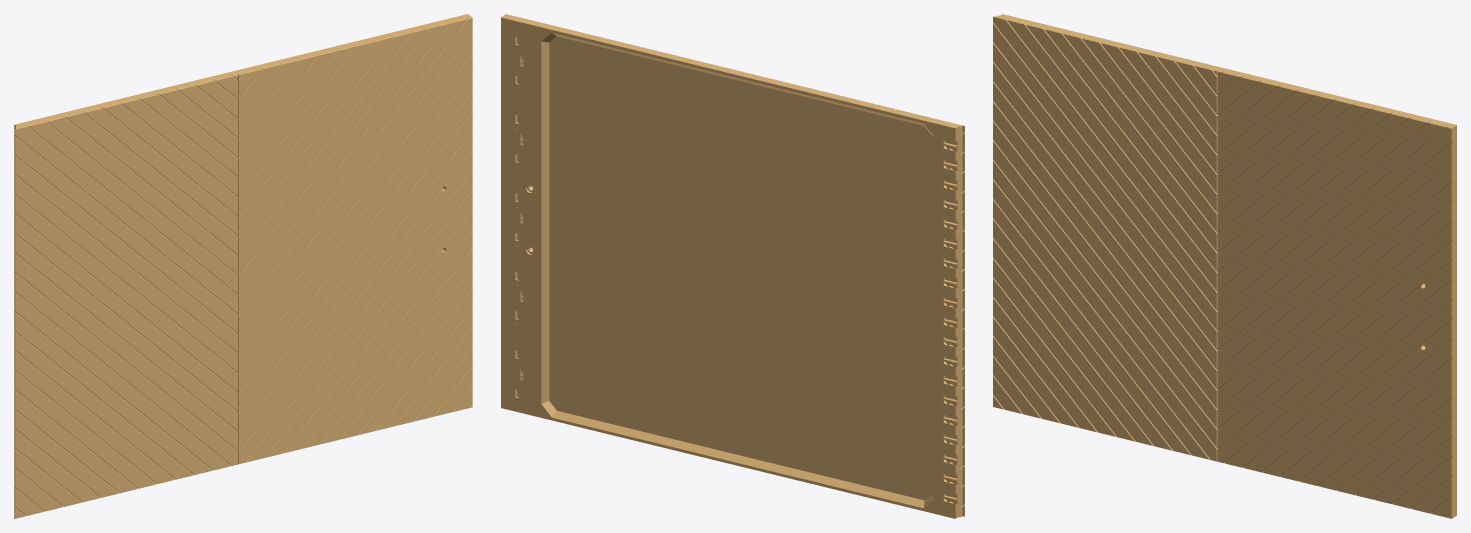
File: Door_Chevron_4W-5H.lib.glb
3 renders of one model, left to right at view 1: azimuth 30°, elevation 25°; view 2: azimuth 150°, elevation 25°; view 3: azimuth 330°, elevation 25°, orthographic.
Parts seen in each view (by area): view 1: Door_Chevron_4W-5H; view 2: Door_Chevron_4W-5H; view 3: Door_Chevron_4W-5H.
Boxes of the visible parts, x1,y1,x2,y2 form: Door_Chevron_4W-5H: [14, 14, 472, 518]; Door_Chevron_4W-5H: [501, 14, 964, 518]; Door_Chevron_4W-5H: [993, 14, 1456, 518].
Bounding box in the file's own units: 343 × 279 × 6.49.
